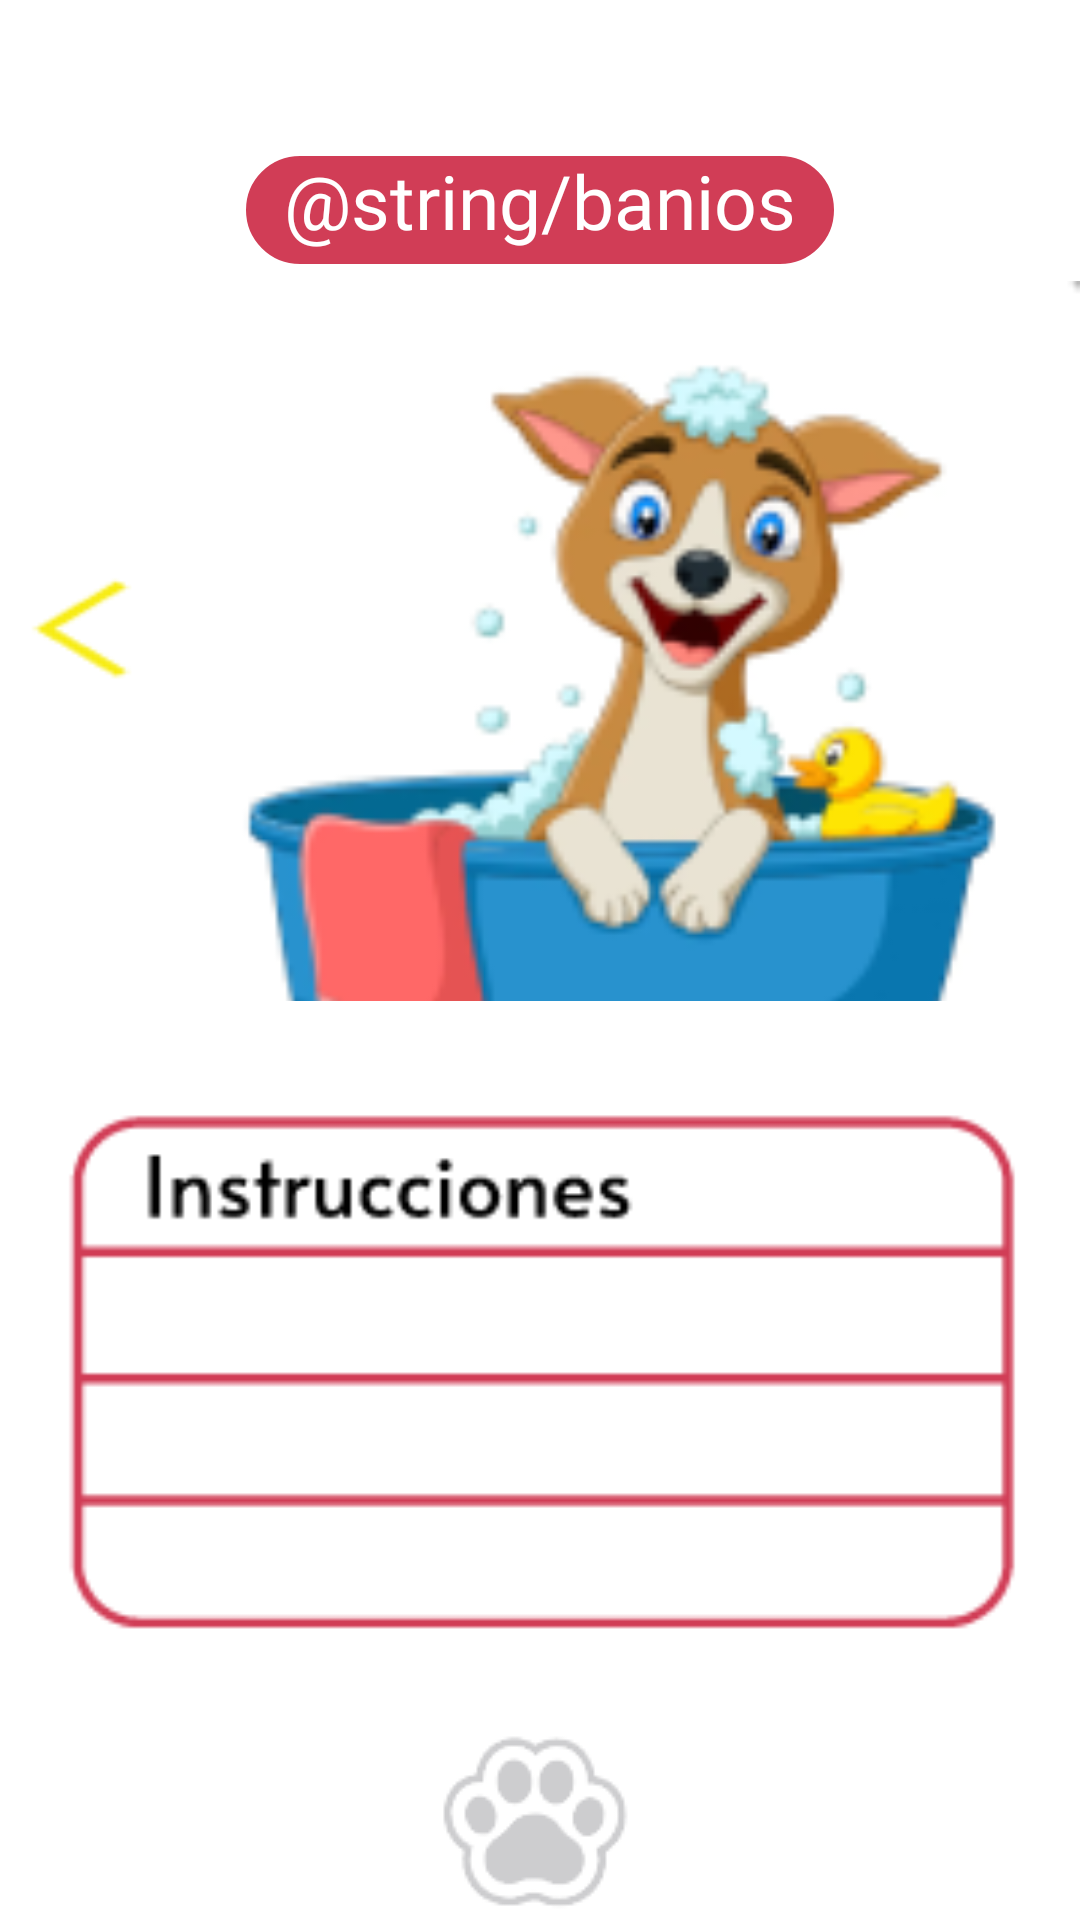

Screen size 1080 × 1920. Icon name, then its center in pixels as (x=x, y=y):
regresar: (x=81, y=629)
